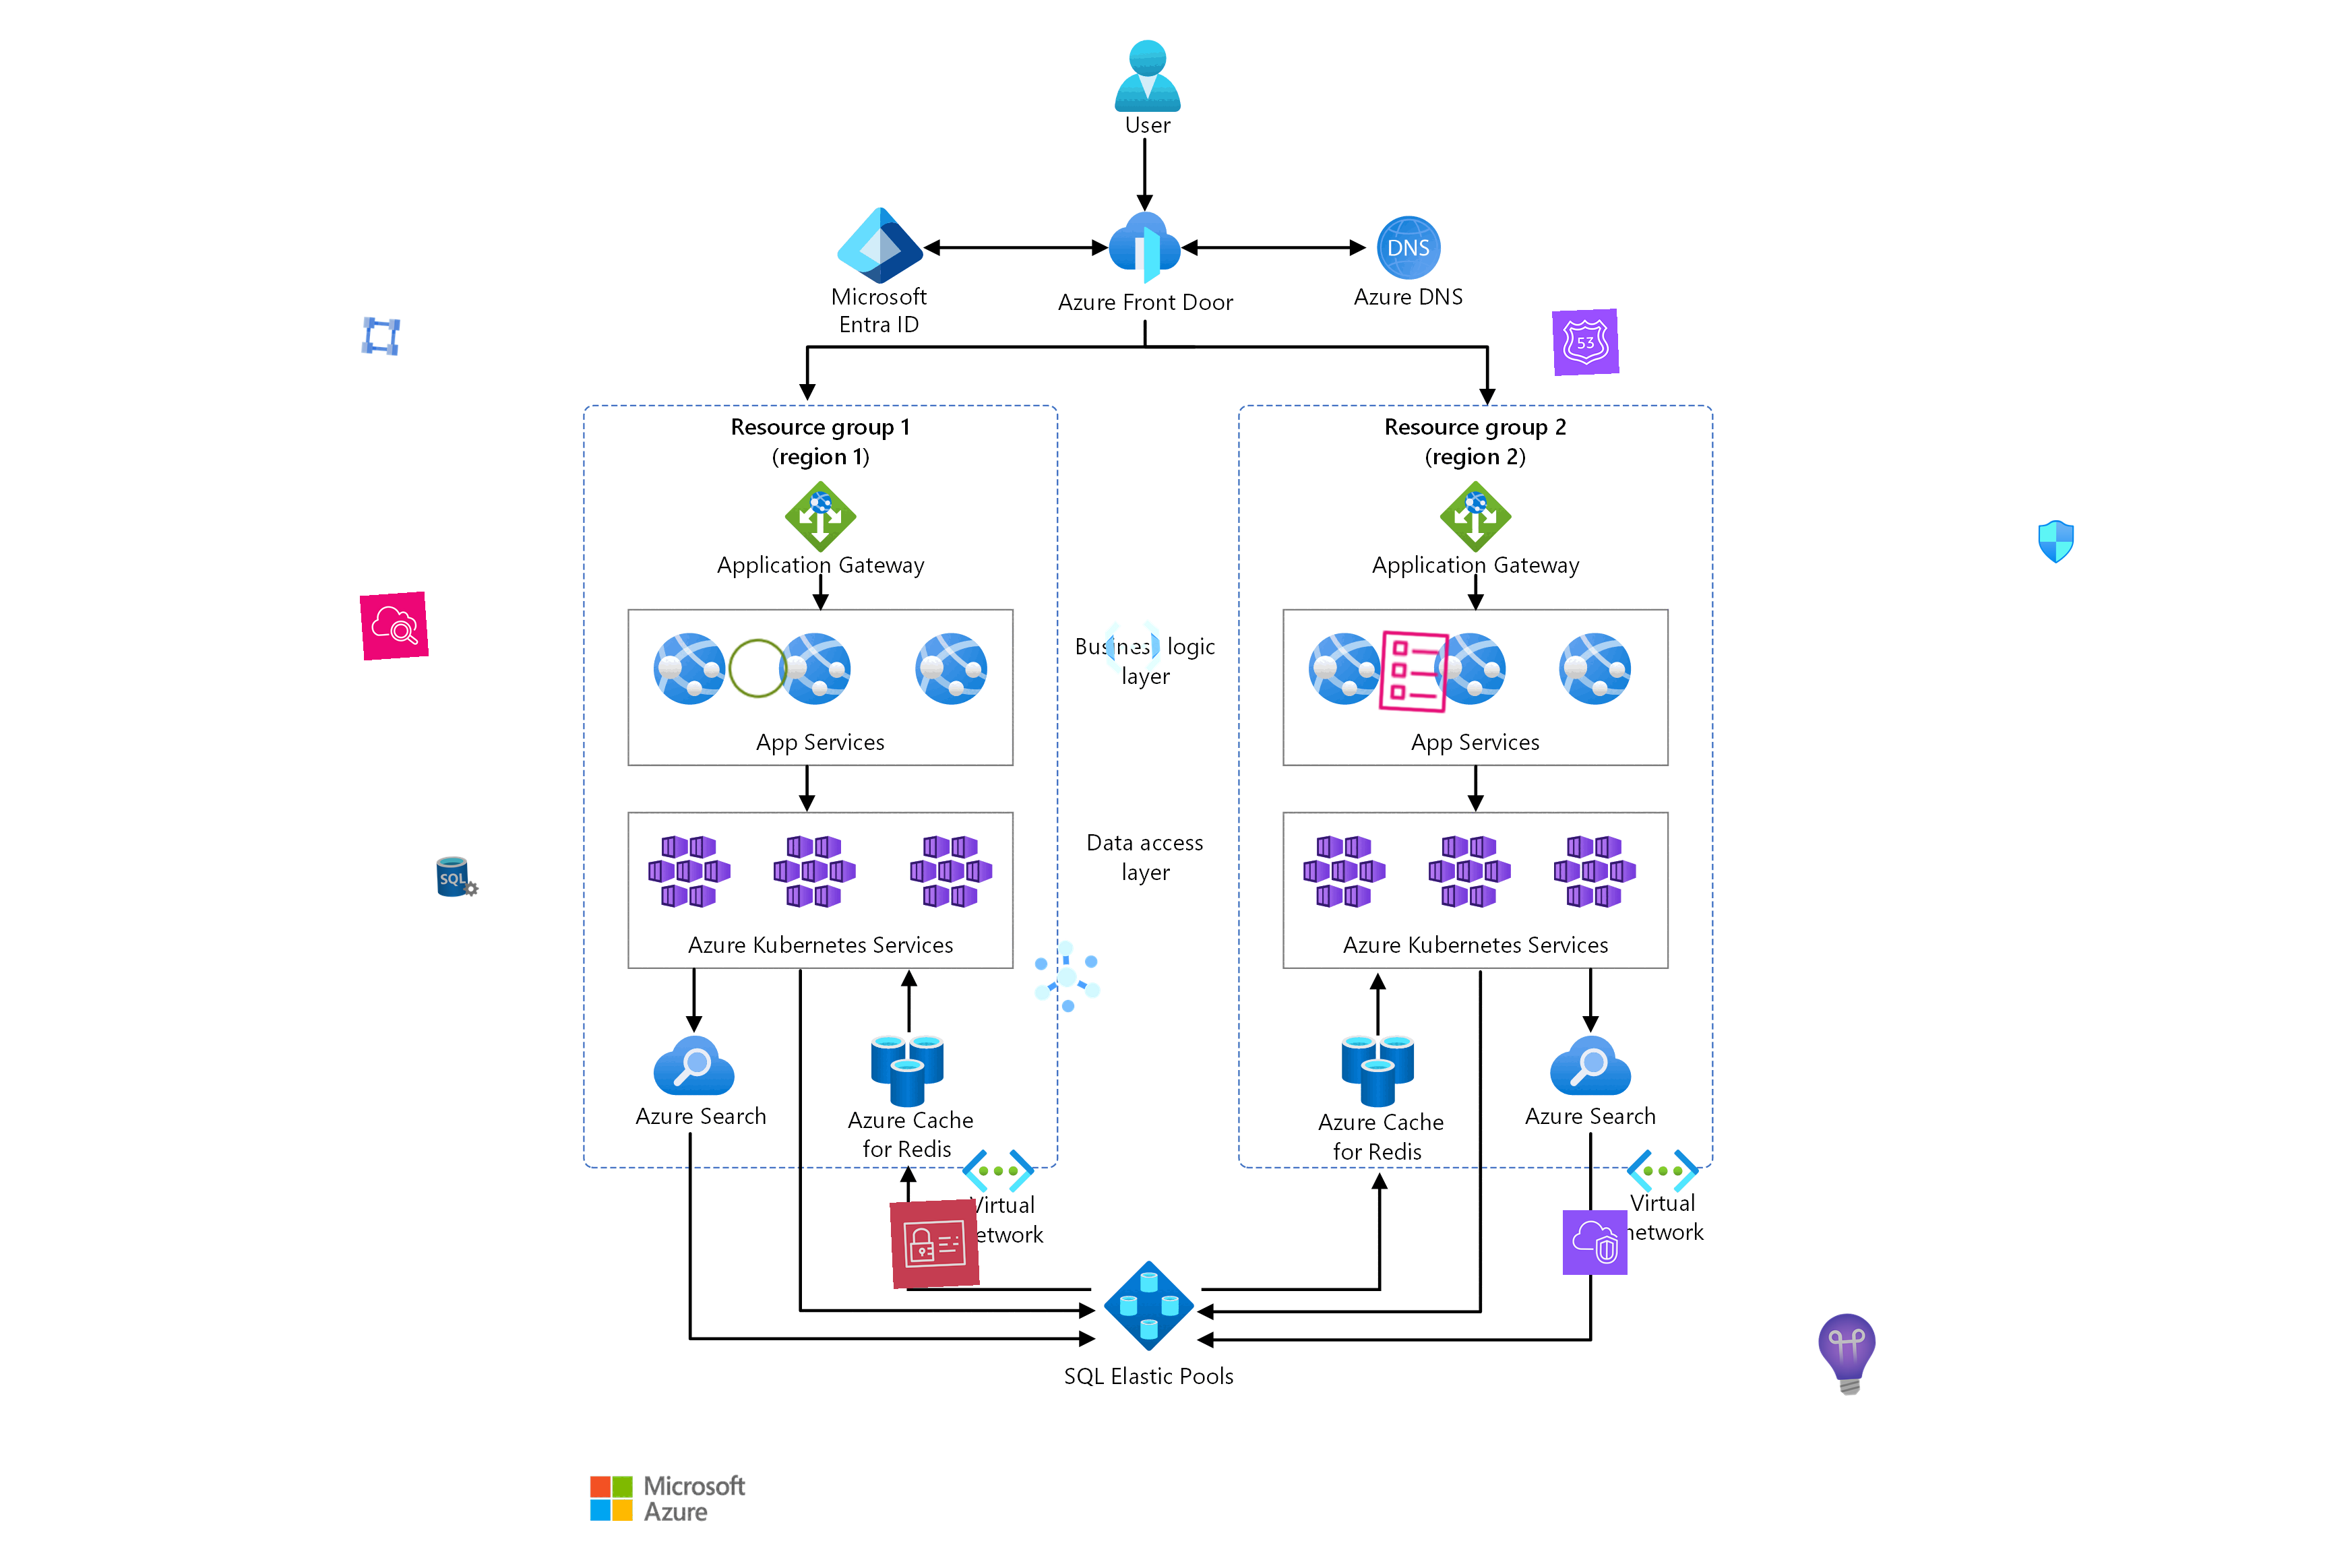aws_amazon_cloudwatch: (359, 591, 429, 661)
aws_amazon_route_53: (1552, 308, 1619, 376)
aws_amazon_virtual_private_cloud: (1563, 1209, 1627, 1276)
aws_cloudformation_template: (1367, 627, 1459, 717)
aws_identity_and_access_management: (889, 1199, 980, 1290)
aws_simple_storage_service_object: (723, 634, 793, 703)
azure_application_insights: (1803, 1309, 1894, 1400)
azure_network_security_groups: (2033, 520, 2079, 563)
azure_sql_server: (434, 854, 481, 899)
gcp_cloud_functions: (1099, 612, 1167, 681)
gcp_pubsub: (1022, 931, 1111, 1022)
gcp_virtual_private_cloud: (357, 313, 404, 361)
